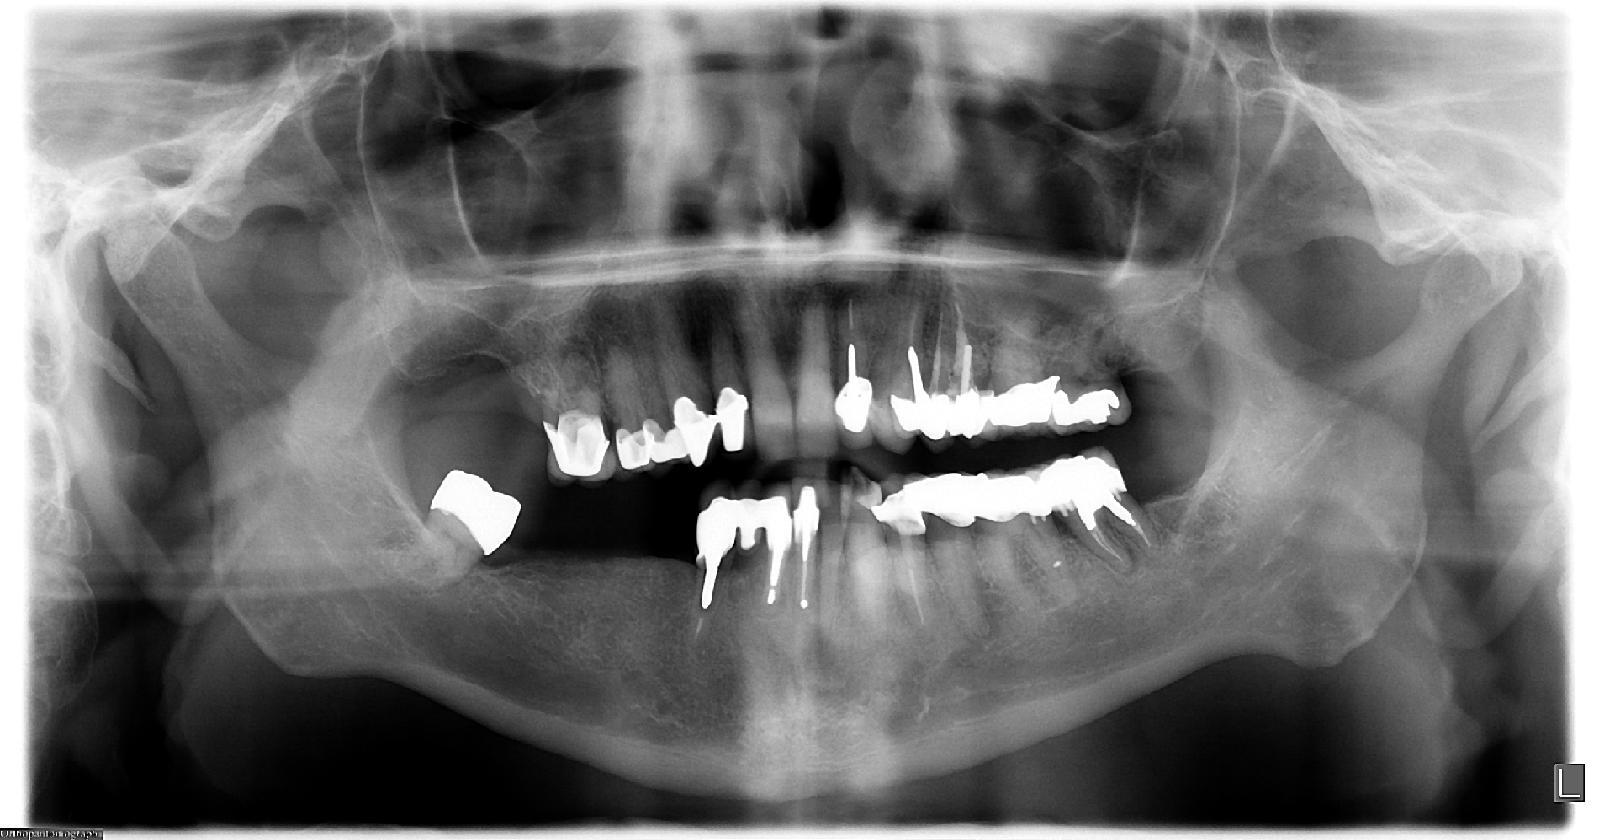Erupted: (412, 462, 526, 607)
